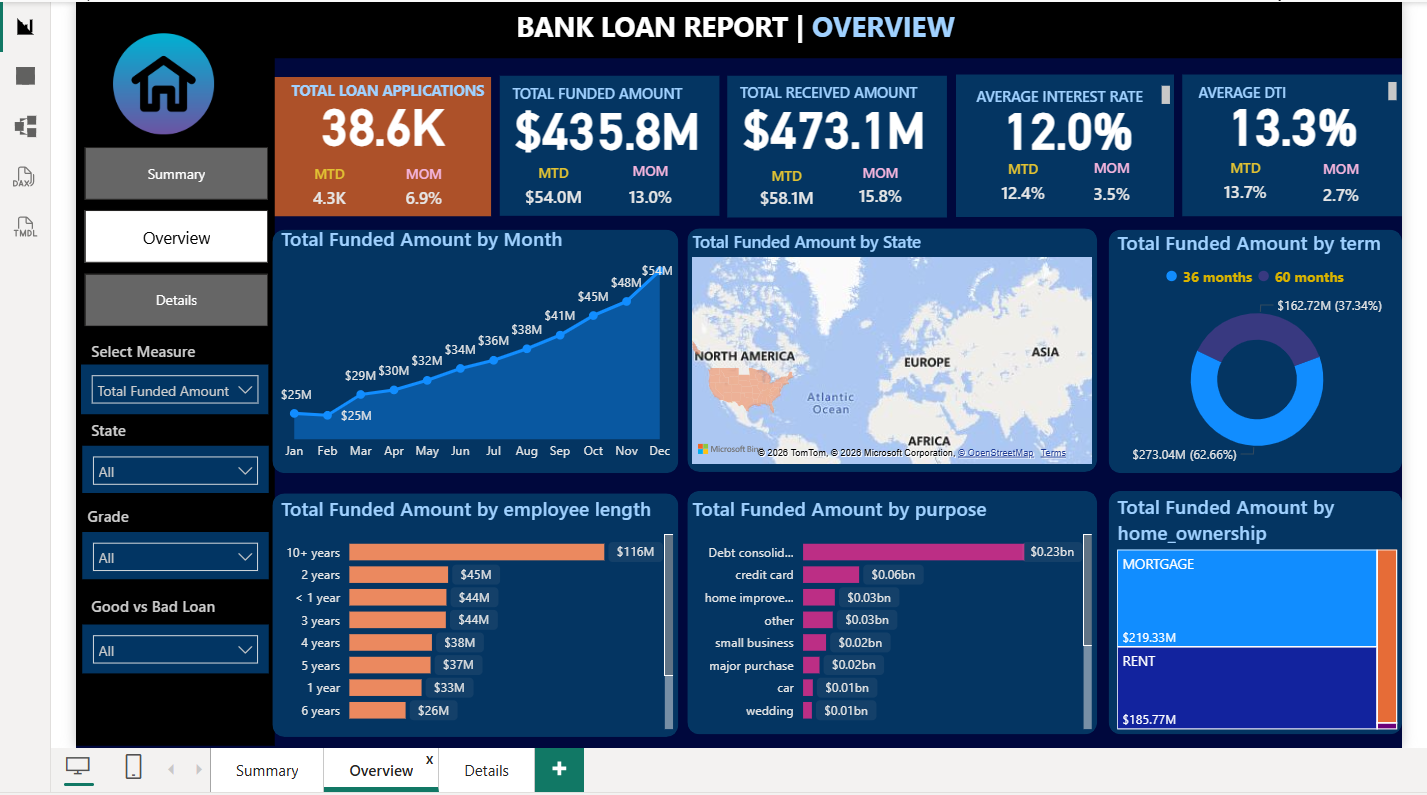

This screenshot's page, from the dashboard's own definition file:
{"tool":"powerbi","page":{"name":"Overview","canvas":[1280,720],"ordinal":1},"visuals":[{"type":"shape","box":[849.3,70,210.8,137.5],"z":0,"group":"g4"},{"type":"shape","box":[1067.7,70,212,137],"z":0,"group":"g5"},{"type":"group","id":"g1","title":"Group 1","box":[408.7,71.2,212.7,137.3],"z":0},{"type":"shape","box":[408.7,71.2,212.2,135.3],"z":0,"group":"g1"},{"type":"shape","box":[628.8,71.2,212,137],"z":0,"group":"g3"},{"type":"shape","box":[189.4,71.9,211.3,134.6],"z":0,"group":"g2"},{"type":"group","id":"g2","title":"Group 1","box":[189.4,71.2,212,137],"z":1000},{"type":"card","fields":{"Values":["bank_loan_data.Average DTI"]},"box":[1079.3,85,189.3,62.9],"z":1000,"group":"g5"},{"type":"card","fields":{"Values":["bank_loan_data.Total Loan Applications"]},"box":[202.2,85.8,187.3,59.8],"z":1000,"group":"g2"},{"type":"card","fields":{"Values":["bank_loan_data.Total Amount Received"]},"box":[635.4,87.7,192.2,60.3],"z":1000,"group":"g3"},{"type":"card","fields":{"Values":["bank_loan_data.AVERAGE Interest Rate"]},"box":[864.6,88.1,184.9,62.9],"z":1000,"group":"g4"},{"type":"card","fields":{"Values":["bank_loan_data.Total Funded Amount"]},"box":[416,88.5,193.2,62.9],"z":1000,"group":"g1"},{"type":"shape","box":[0,0,1280,54.3],"z":2000},{"type":"textbox","box":[202.2,71.2,199.2,29.2],"z":2000,"group":"g2"},{"type":"textbox","box":[635.4,73,204.4,29.5],"z":2000,"group":"g3"},{"type":"textbox","box":[1078.9,73,201.3,28],"z":2000,"group":"g5"},{"type":"textbox","box":[416,73.2,205.4,30.7],"z":2000,"group":"g1"},{"type":"textbox","box":[864.2,76.1,196.6,27.9],"z":2000,"group":"g4"},{"type":"shape","box":[0,48.3,191.8,669.6],"z":3000},{"type":"card","title":"MTD","fields":{"Values":["bank_loan_data.MTD Avg DTI"]},"box":[1096.4,150.9,64,51.7],"z":3000,"group":"g5"},{"type":"card","title":"MTD","fields":{"Values":["bank_loan_data.MTD Avg Int Rate"]},"box":[882.7,151.7,62,51.9],"z":3000,"group":"g4"},{"type":"card","title":"MTD","fields":{"Values":["bank_loan_data.MTD Funded Amount"]},"box":[427.8,155.4,65.1,51.9],"z":3000,"group":"g1"},{"type":"card","title":"MTD","fields":{"Values":["bank_loan_data.MTD Loan Applications"]},"box":[216.2,156.7,57.4,50.2],"z":3000,"group":"g2"},{"type":"card","title":"MTD","fields":{"Values":["bank_loan_data.MTD Total Amount Received"]},"box":[653.6,158.1,64.2,49.4],"z":3000,"group":"g3"},{"type":"textbox","box":[419.8,0,492.2,49.5],"z":4000},{"type":"card","title":"MOM","fields":{"Values":["bank_loan_data.MOM Avg Interest rate"]},"box":[974,151,52.1,54.5],"z":4000,"group":"g4"},{"type":"card","title":"MOM","fields":{"Values":["bank_loan_data.MOM Avg DTI"]},"box":[1194.7,152,53.1,54.7],"z":4000,"group":"g5"},{"type":"card","title":"MOM","fields":{"Values":["bank_loan_data.MOM Total Funded Amount"]},"box":[526.7,153,54.3,55.5],"z":4000,"group":"g1"},{"type":"card","title":"MOM","fields":{"Values":["bank_loan_data.MOM Total Amount Received"]},"box":[748.5,155.4,56.7,49.5],"z":4000,"group":"g3"},{"type":"card","title":"MOM","fields":{"Values":["bank_loan_data.MOM Loan Applications"]},"box":[308.4,156.7,53.8,51.5],"z":4000,"group":"g2"},{"type":"group","id":"g3","title":"Group 1","box":[628.8,71.2,212,137],"z":5000},{"type":"group","id":"g4","title":"Group 1","box":[849.3,70,212.3,137.5],"z":6000},{"type":"group","id":"g5","title":"Group 1","box":[1067.7,70,212.3,137.5],"z":7000},{"type":"shape","box":[189.4,219.6,392.1,235.3],"z":8000},{"type":"slicer","fields":{"Values":["bank_loan_data.address_state"]},"box":[6,428.3,179.8,45.8],"z":9000},{"type":"textbox","box":[9.7,398.1,74.8,30.2],"z":10000},{"type":"slicer","fields":{"Values":["bank_loan_data.grade"]},"box":[6,511.5,179.8,45.8],"z":11000},{"type":"textbox","box":[6,481.4,74.8,30.2],"z":12000},{"type":"slicer","fields":{"Values":["bank_loan_data.Good vs Bad Loan"]},"box":[6,600.8,179.8,47.1],"z":13000},{"type":"textbox","box":[9.7,568.2,149.6,32.6],"z":14000},{"type":"areaChart","fields":{"Category":["Date Table.Month"],"Y":["bank_loan_data.Total Funded Amount"]},"box":[193,216,388.5,235.3],"z":15000},{"type":"slicer","fields":{"Values":["Select Measure.Select Measure"]},"box":[4.8,349.9,181,48.3],"z":15001},{"type":"textbox","box":[9.7,322.1,123.1,30.2],"z":15002},{"type":"shape","box":[589.9,218.4,395.7,235.3],"z":15003},{"type":"filledMap","fields":{"Category":["bank_loan_data.address_state"],"Y":["bank_loan_data.Total Funded Amount"]},"box":[589.9,219.6,395.7,231.6],"z":15004},{"type":"shape","box":[996.5,219.6,283.5,235.3],"z":15005},{"type":"donutChart","fields":{"Category":["bank_loan_data.term"],"Y":["bank_loan_data.Total Funded Amount"]},"box":[1000.1,219.6,279.9,235.3],"z":15006},{"type":"shape","box":[189.4,474.1,392.1,235.3],"z":15007},{"type":"barChart","fields":{"Category":["bank_loan_data.emp_length"],"Y":["bank_loan_data.Total Funded Amount"]},"box":[193,476.5,388.5,230.4],"z":15008},{"type":"shape","box":[589.9,471.7,395.7,235.3],"z":15009},{"type":"barChart","fields":{"Category":["bank_loan_data.purpose"],"Y":["bank_loan_data.Total Funded Amount"]},"box":[589.9,476.5,395.7,230.4],"z":15010},{"type":"shape","box":[996.5,471.7,283.5,235.3],"z":15011},{"type":"treemap","fields":{"Group":["bank_loan_data.home_ownership"],"Values":["bank_loan_data.Total Funded Amount"]},"box":[1000.1,474.1,279.9,232.8],"z":15012},{"type":"pageNavigator","box":[8.4,139.9,177.3,173.7],"z":15013},{"type":"image","box":[18.1,25.3,132.7,107.4],"z":15014}]}

Visuals, with their boxes on the page's 1280x720 design canvas (x1, y1, x2, y2). These are canvas units, not pixel positions in the 1427x795 screenshot, which may show the page scaled, cropped or inside an application window:
shape: (849, 70, 1060, 208)
shape: (1068, 70, 1280, 207)
"Group 1" group: (409, 71, 621, 208)
shape: (409, 71, 621, 206)
shape: (629, 71, 841, 208)
shape: (189, 72, 401, 206)
"Group 1" group: (189, 71, 401, 208)
card - bank_loan_data.Average DTI: (1079, 85, 1269, 148)
card - bank_loan_data.Total Loan Applications: (202, 86, 390, 146)
card - bank_loan_data.Total Amount Received: (635, 88, 828, 148)
card - bank_loan_data.AVERAGE Interest Rate: (865, 88, 1050, 151)
card - bank_loan_data.Total Funded Amount: (416, 88, 609, 151)
shape: (0, 0, 1280, 54)
textbox: (202, 71, 401, 100)
textbox: (635, 73, 840, 102)
textbox: (1079, 73, 1280, 101)
textbox: (416, 73, 621, 104)
textbox: (864, 76, 1061, 104)
shape: (0, 48, 192, 718)
"MTD" card: (1096, 151, 1160, 203)
"MTD" card: (883, 152, 945, 204)
"MTD" card: (428, 155, 493, 207)
"MTD" card: (216, 157, 274, 207)
"MTD" card: (654, 158, 718, 208)
textbox: (420, 0, 912, 50)
"MOM" card: (974, 151, 1026, 206)
"MOM" card: (1195, 152, 1248, 207)
"MOM" card: (527, 153, 581, 208)
"MOM" card: (748, 155, 805, 205)
"MOM" card: (308, 157, 362, 208)
"Group 1" group: (629, 71, 841, 208)
"Group 1" group: (849, 70, 1062, 208)
"Group 1" group: (1068, 70, 1280, 208)
shape: (189, 220, 582, 455)
slicer - bank_loan_data.address_state: (6, 428, 186, 474)
textbox: (10, 398, 84, 428)
slicer - bank_loan_data.grade: (6, 512, 186, 557)
textbox: (6, 481, 81, 512)
slicer - bank_loan_data.Good vs Bad Loan: (6, 601, 186, 648)
textbox: (10, 568, 159, 601)
areaChart - Date Table.Month x bank_loan_data.Total Funded Amount: (193, 216, 582, 451)
slicer - Select Measure.Select Measure: (5, 350, 186, 398)
textbox: (10, 322, 133, 352)
shape: (590, 218, 986, 454)
filledMap - bank_loan_data.address_state x bank_loan_data.Total Funded Amount: (590, 220, 986, 451)
shape: (996, 220, 1280, 455)
donutChart - bank_loan_data.term x bank_loan_data.Total Funded Amount: (1000, 220, 1280, 455)
shape: (189, 474, 582, 709)
barChart - bank_loan_data.emp_length x bank_loan_data.Total Funded Amount: (193, 476, 582, 707)
shape: (590, 472, 986, 707)
barChart - bank_loan_data.purpose x bank_loan_data.Total Funded Amount: (590, 476, 986, 707)
shape: (996, 472, 1280, 707)
treemap - bank_loan_data.home_ownership x bank_loan_data.Total Funded Amount: (1000, 474, 1280, 707)
pageNavigator: (8, 140, 186, 314)
image: (18, 25, 151, 133)
